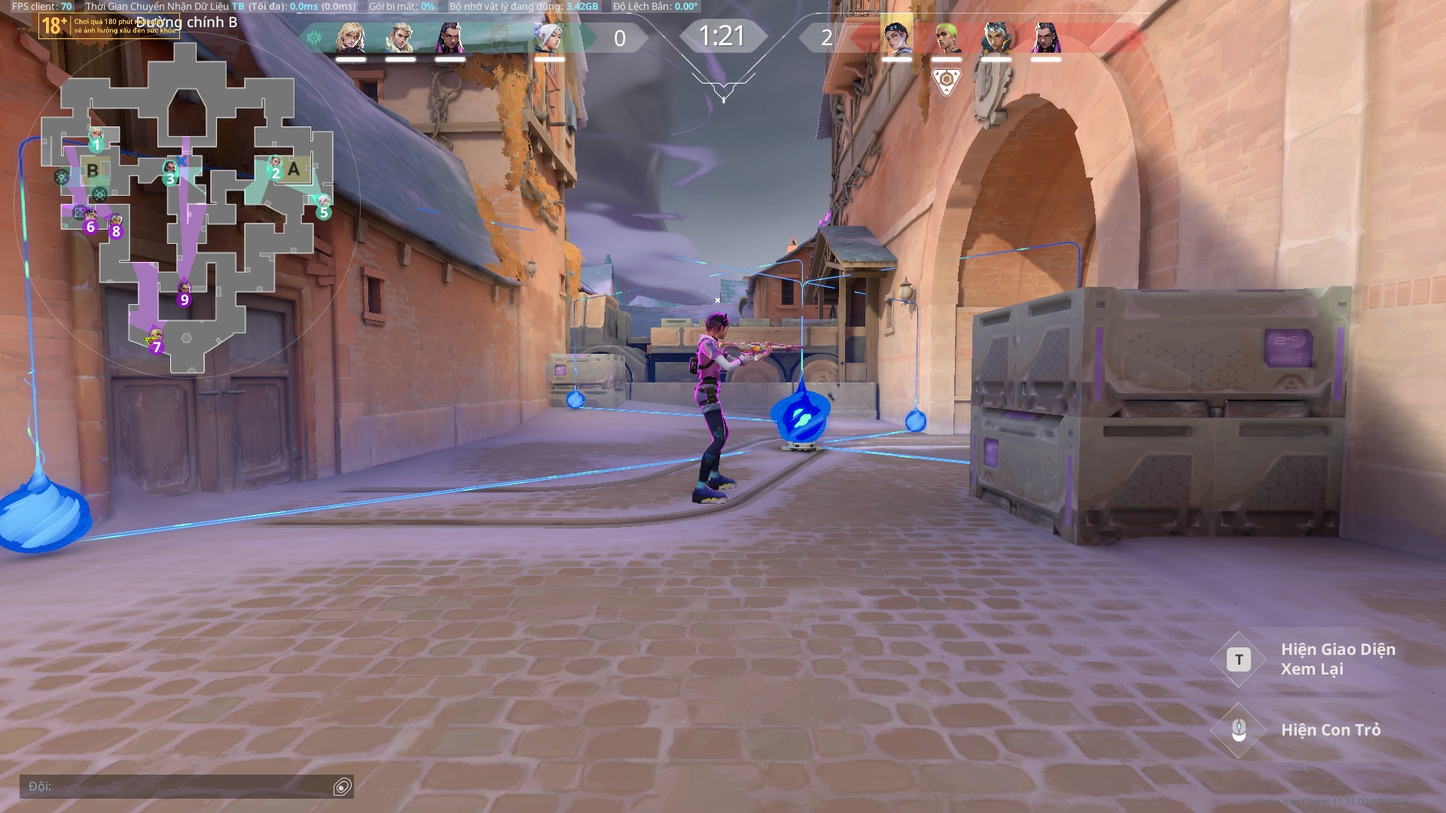body: (695, 333, 721, 385)
head: (704, 312, 732, 338)
